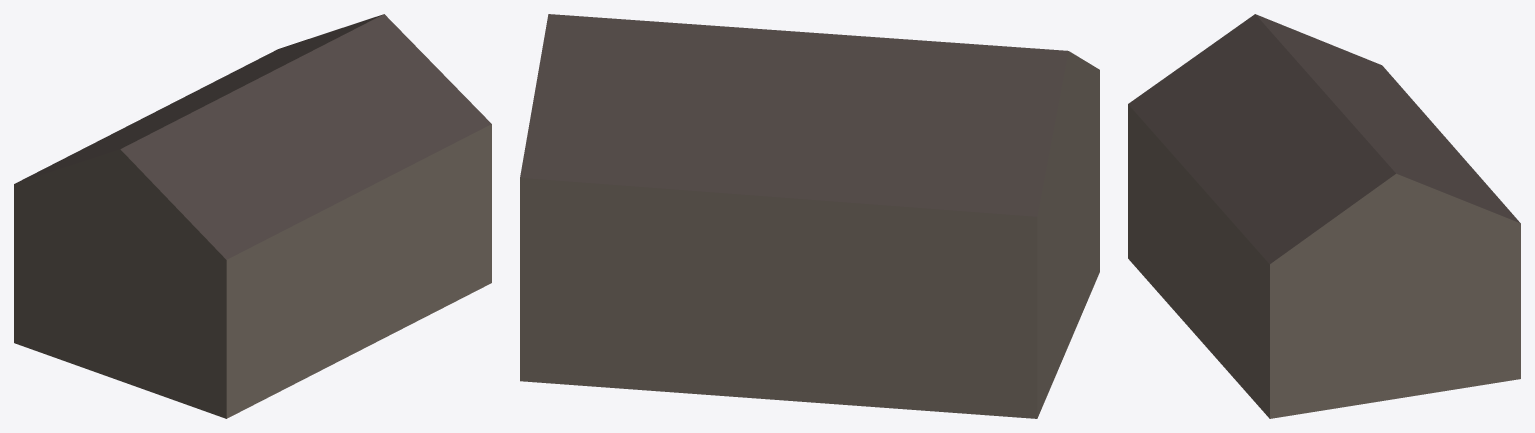
The picture shows the model from 3 angles, left to right: view 1: azimuth 30°, elevation 25°; view 2: azimuth 150°, elevation 25°; view 3: azimuth 270°, elevation 25°; orthographic projection. The views are drawn at different scales.
Parts seen in each view (by area): view 1: HP-w435452360; view 2: HP-w435452360; view 3: HP-w435452360.
Boxes of the visible parts, x1=… form: HP-w435452360: x1=14, y1=14, x2=491, y2=418; HP-w435452360: x1=520, y1=14, x2=1099, y2=418; HP-w435452360: x1=1128, y1=14, x2=1520, y2=418.
Bounding box in the file's own units: 16.58 × 8.74 × 13.83.
